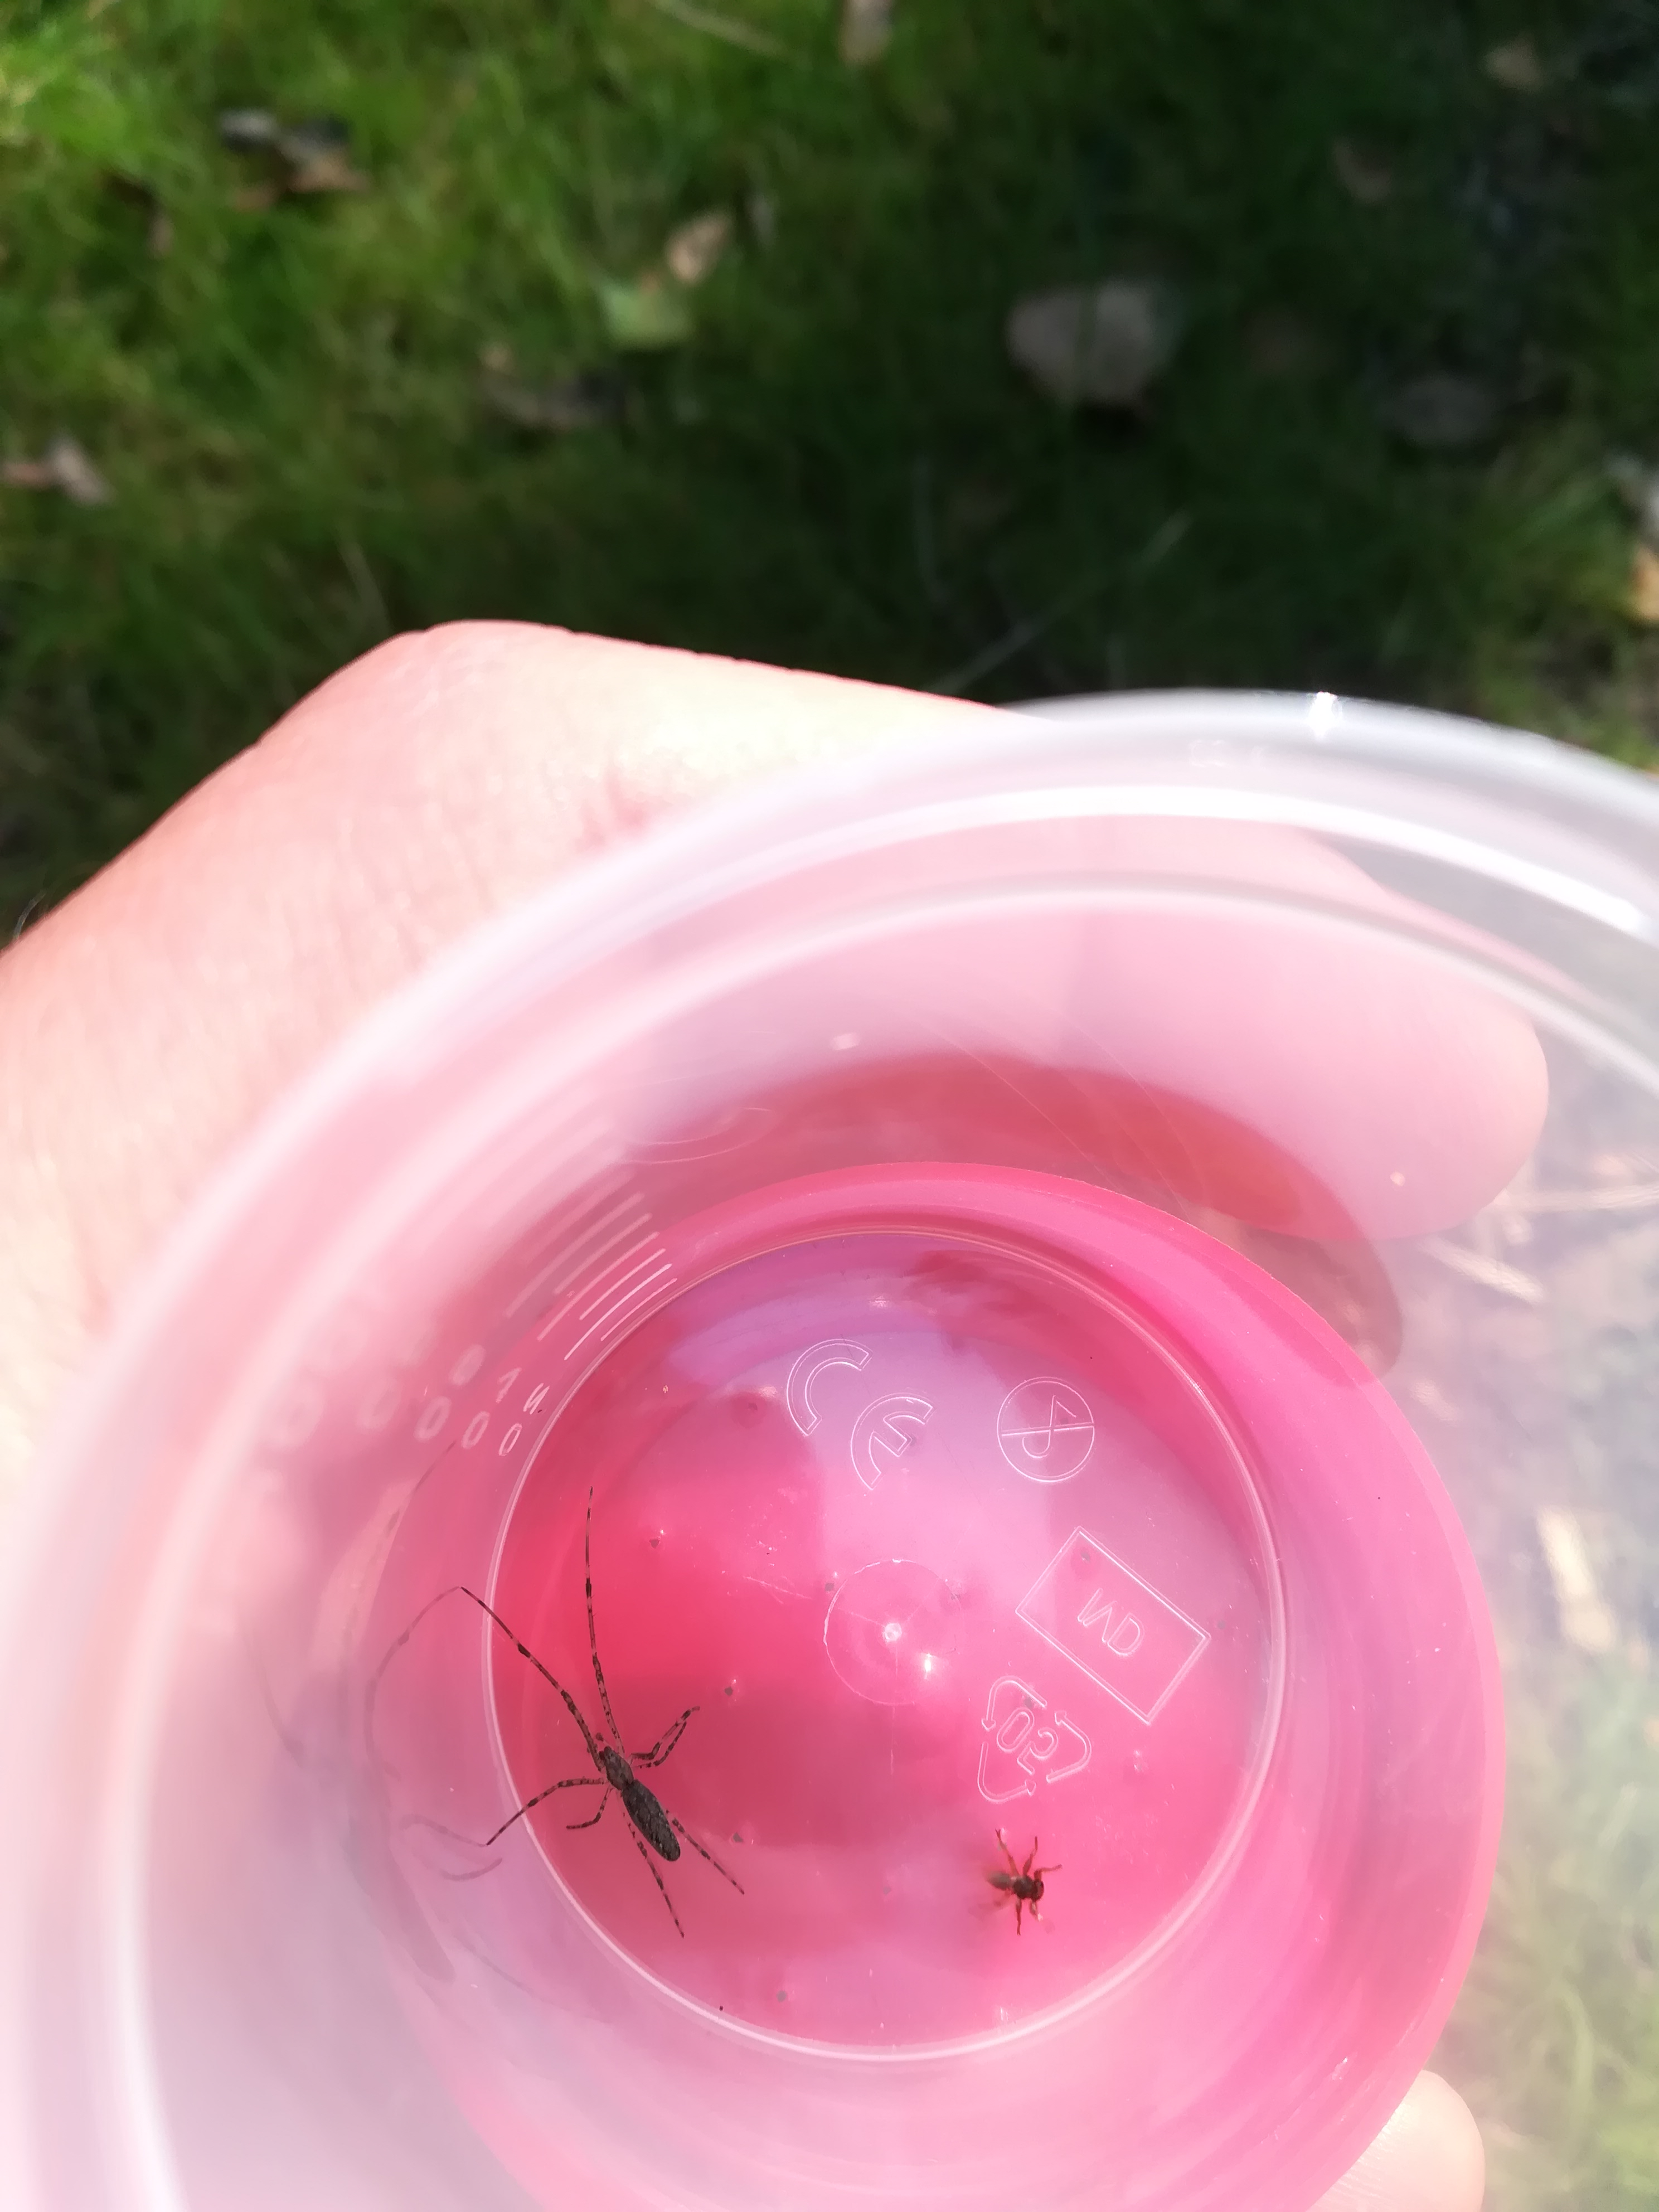spider: (423, 1493, 769, 1998)
